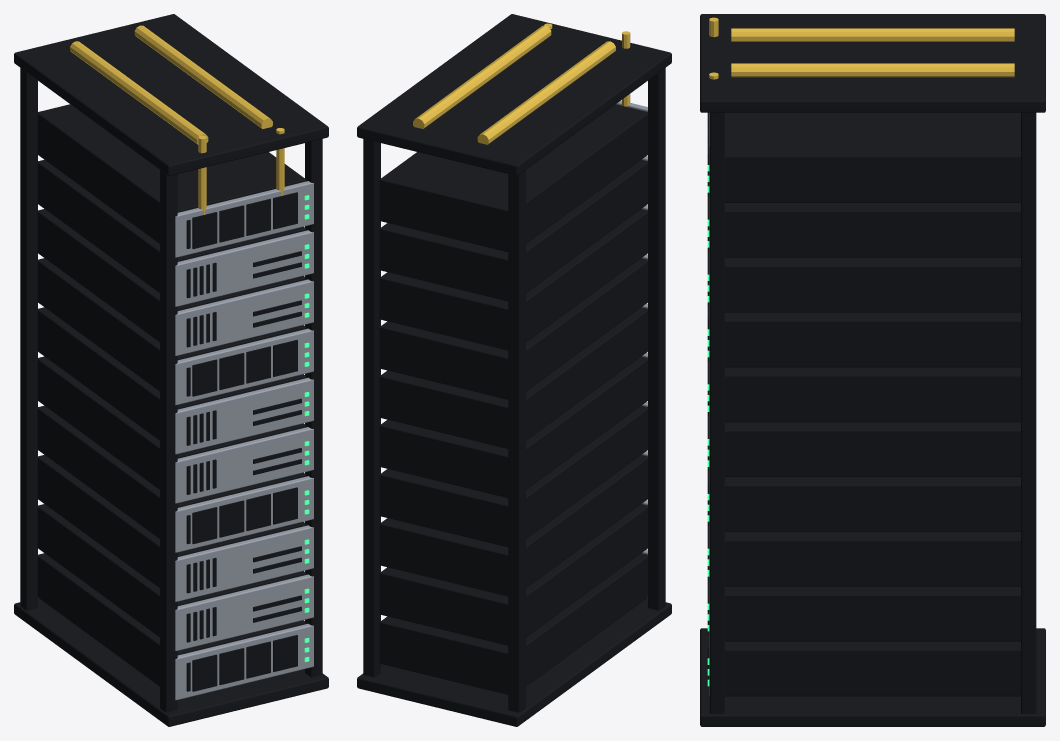
File: ServerRack.fbx
3 renders of one model, left to right at view 1: azimuth 30°, elevation 25°; view 2: azimuth 150°, elevation 25°; view 3: azimuth 270°, elevation 25°, orthographic. The views are drawn at different scales.
Parts seen in each view (by area): view 1: ServerRack; view 2: ServerRack; view 3: ServerRack.
Boxes of the visible parts, box(x1,y1,x2,y2) form: ServerRack: box(14, 14, 328, 726); ServerRack: box(357, 14, 671, 726); ServerRack: box(700, 14, 1045, 726).
Bounding box in the file's own units: 0.06 × 0.205 × 0.1.
